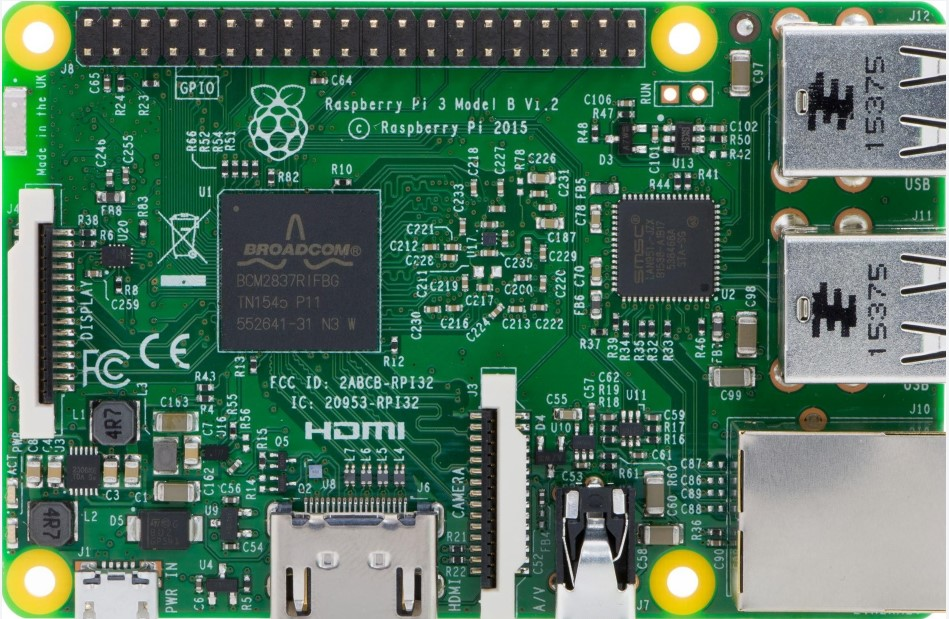Induktor: (27, 498, 79, 547), (89, 398, 140, 445)
